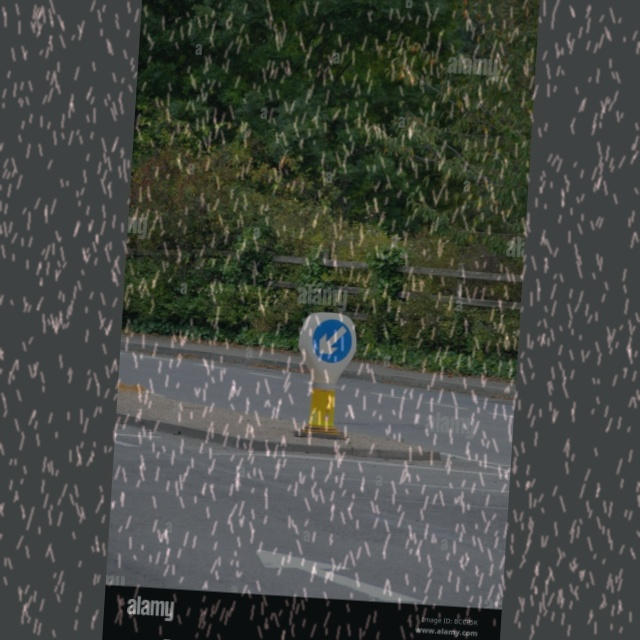Compulsory_Keep_Left: (302, 310, 363, 377)
